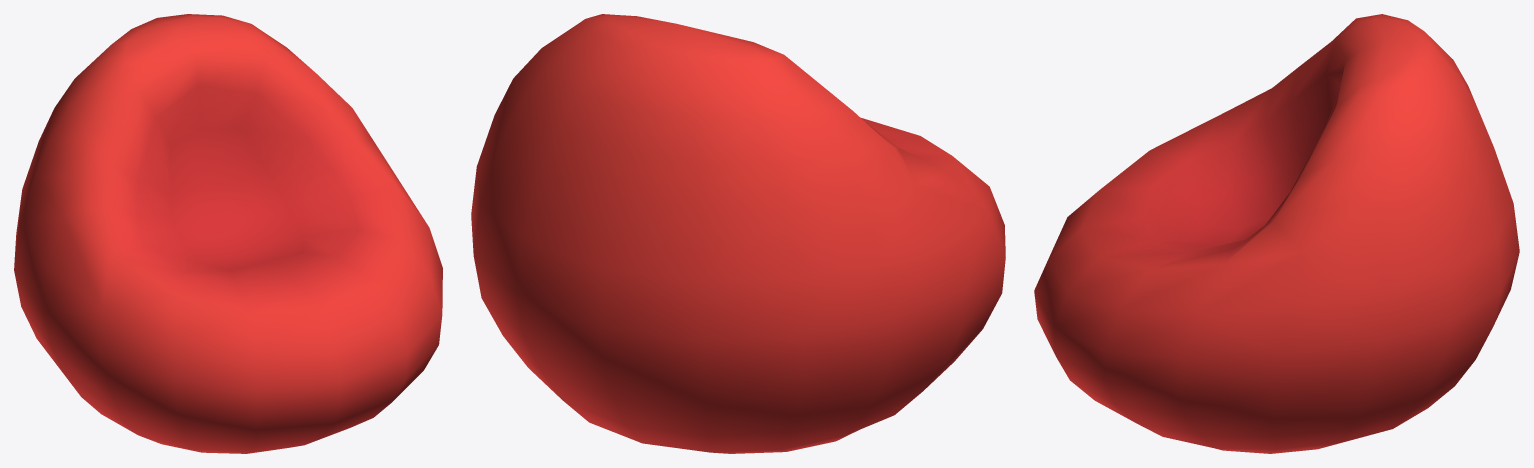
The model's file is Pouf_06.glb.
The picture shows the model from 3 angles, left to right: view 1: azimuth 30°, elevation 25°; view 2: azimuth 150°, elevation 25°; view 3: azimuth 270°, elevation 25°; orthographic projection. The views are drawn at different scales.
Parts seen in each view (by area): view 1: Pouf_06; view 2: Pouf_06; view 3: Pouf_06.
Part boxes in pixels (box(x1,y1,x2,y2)): Pouf_06: box(14, 14, 442, 453); Pouf_06: box(471, 14, 1005, 453); Pouf_06: box(1034, 14, 1519, 453).
Size of the model in its own units: 0.8796 by 0.7755 by 0.9359.
Materials: 1 (1 with a texture image).
